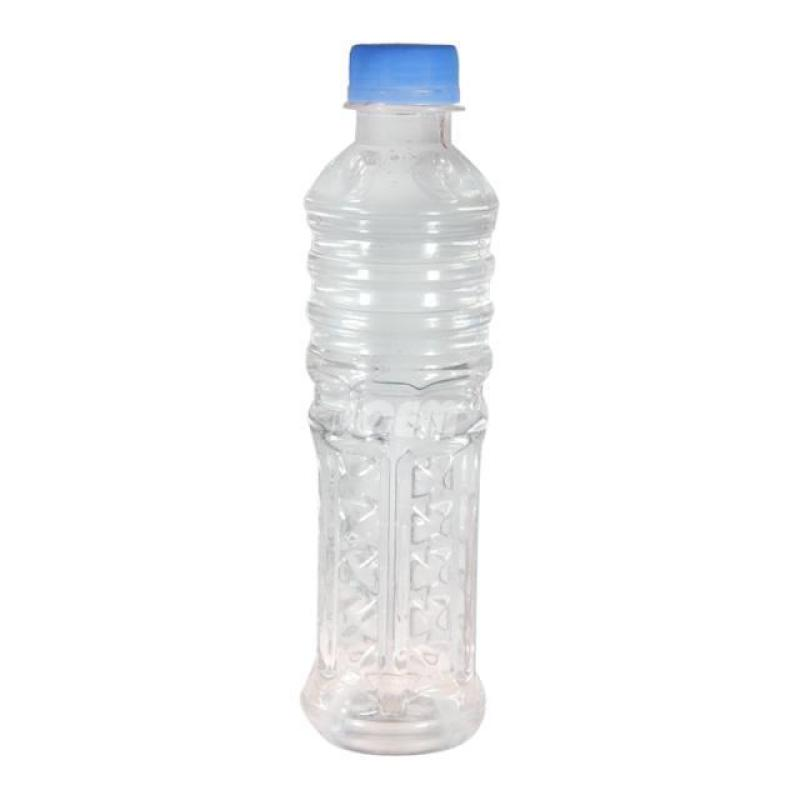botella: (300, 43, 498, 755)
